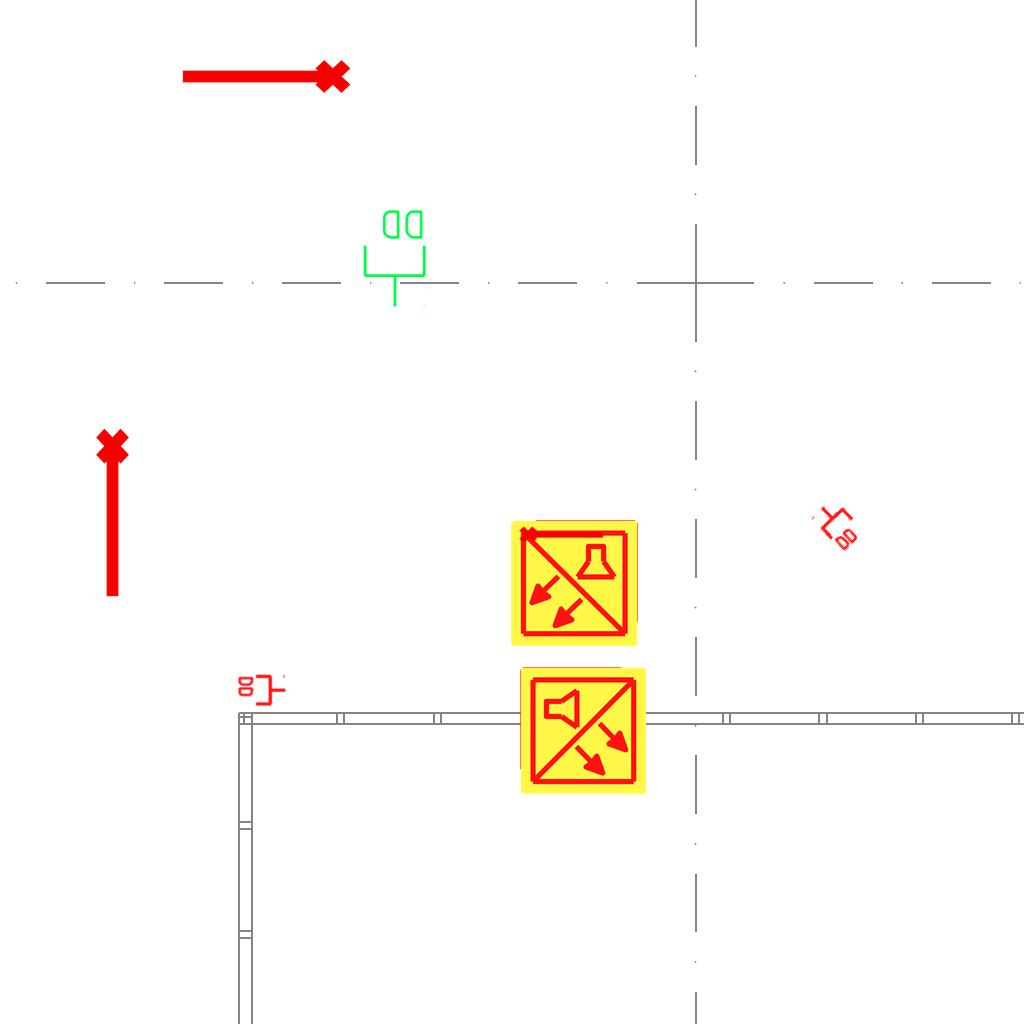ASR_Ansaugoeffnung: (177, 56, 353, 102), (92, 426, 138, 602), (518, 522, 606, 545)
Datenanschluss_zweifach: (361, 206, 430, 309), (809, 494, 869, 555), (236, 674, 287, 708)
OKW_Multisensormelder_(Kombination_optischer_Rauch-Kahlenmonoxid_Waerme-Melder): (508, 517, 640, 649), (517, 665, 649, 797)
